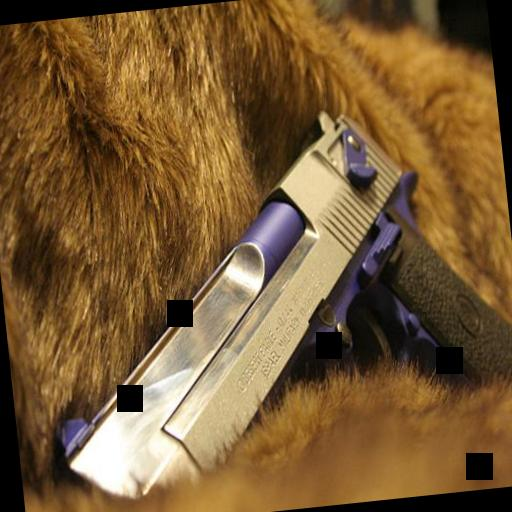Handgun: (16, 92, 512, 496)
